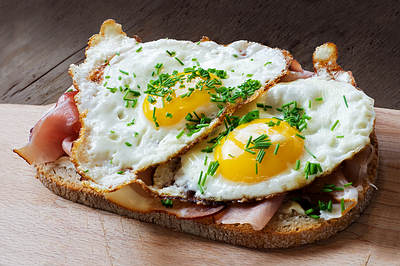fried egg: (84, 34, 234, 162), (193, 82, 360, 188)
slice of bread: (47, 179, 333, 249)
